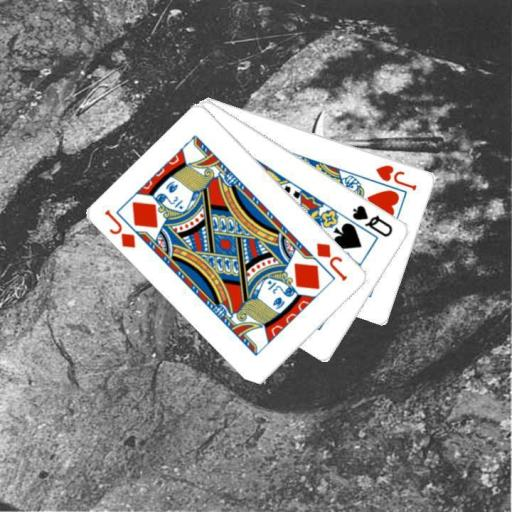card-corner: (349, 202, 395, 239), (101, 206, 138, 250), (313, 240, 350, 282), (372, 161, 418, 192)
